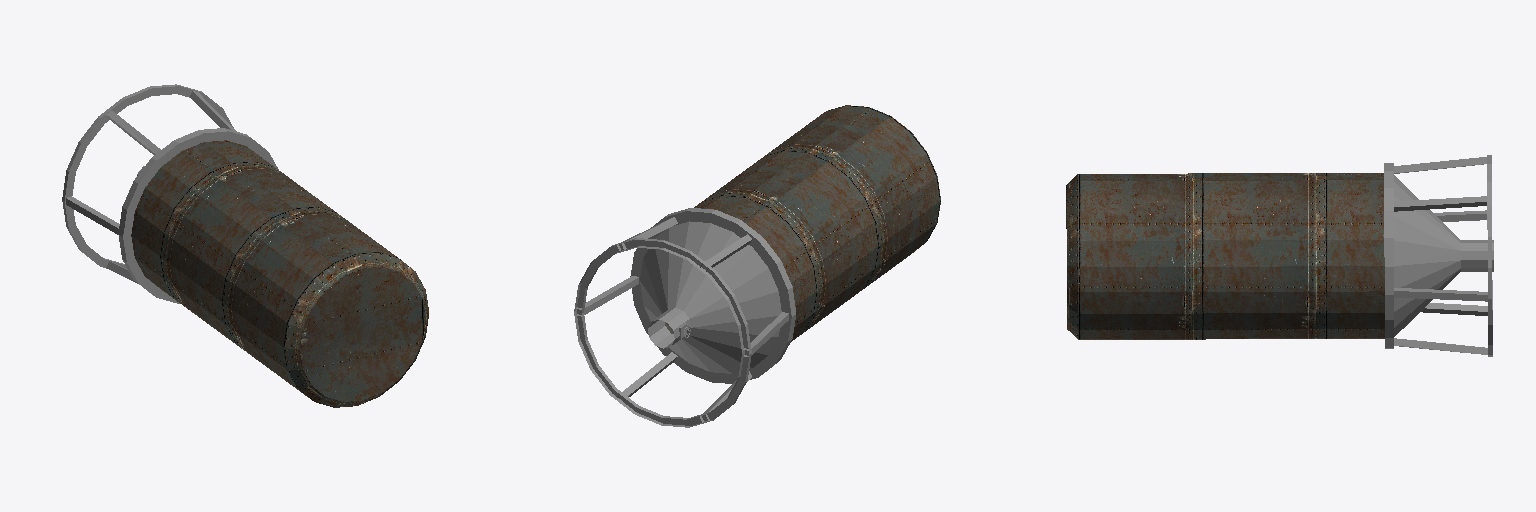
3 renders of one model, left to right at view 1: azimuth 30°, elevation 25°; view 2: azimuth 150°, elevation 25°; view 3: azimuth 270°, elevation 25°, orthographic.
Parts seen in each view (by area): view 1: Object011; view 2: Object011; view 3: Object011.
Part boxes in pixels (left/top/right/bottom): Object011: left=62, top=84, right=428, bottom=407; Object011: left=574, top=105, right=940, bottom=427; Object011: left=1066, top=155, right=1493, bottom=356.
Size of the model in its own units: 4.19 by 4.19 by 8.82.
Materials: 2 (1 with a texture image).